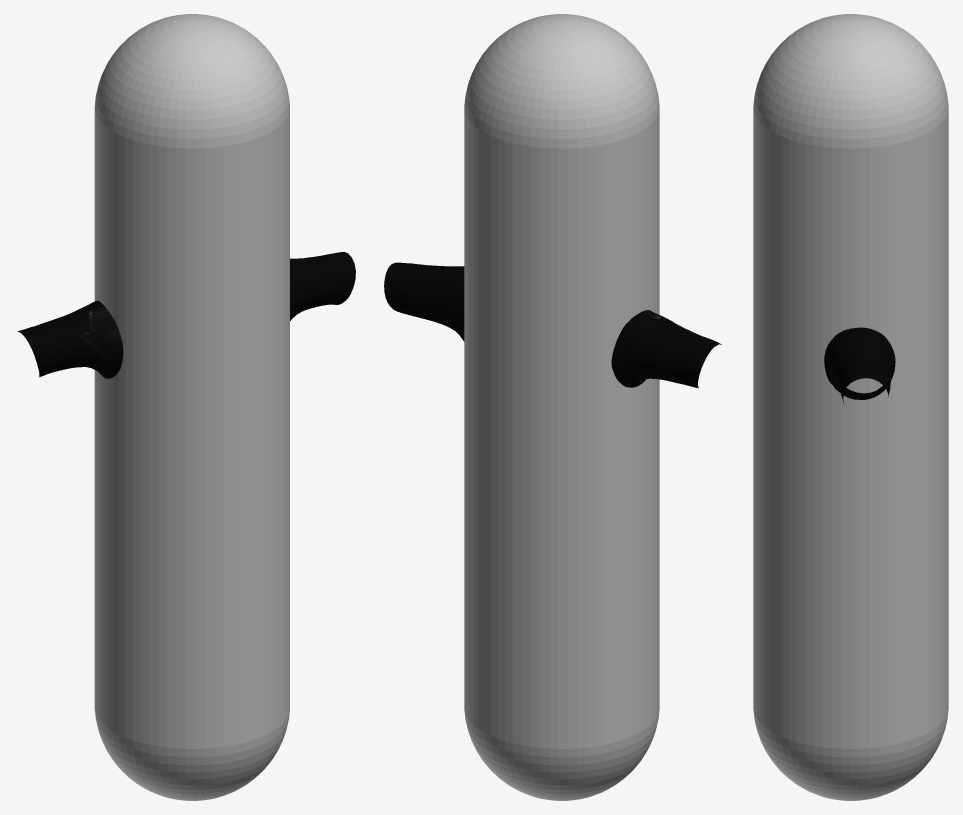
The model's file is demo_garment.glb.
3 views of the same model, side by side, from view 1: azimuth 30°, elevation 25°; view 2: azimuth 150°, elevation 25°; view 3: azimuth 270°, elevation 25° (orthographic).
Parts seen in each view (by area): view 1: mannequin, garment; view 2: mannequin, garment; view 3: mannequin, garment.
Boxes of the visible parts, x1=… form: mannequin: x1=94, y1=14, x2=289, y2=800; garment: x1=17, y1=252, x2=355, y2=378; mannequin: x1=464, y1=14, x2=659, y2=800; garment: x1=384, y1=262, x2=721, y2=388; mannequin: x1=753, y1=14, x2=948, y2=800; garment: x1=824, y1=327, x2=895, y2=402.
Size of the model in its own units: 0.8071 by 1.82 by 0.4195.
1 material, 1 textured.
